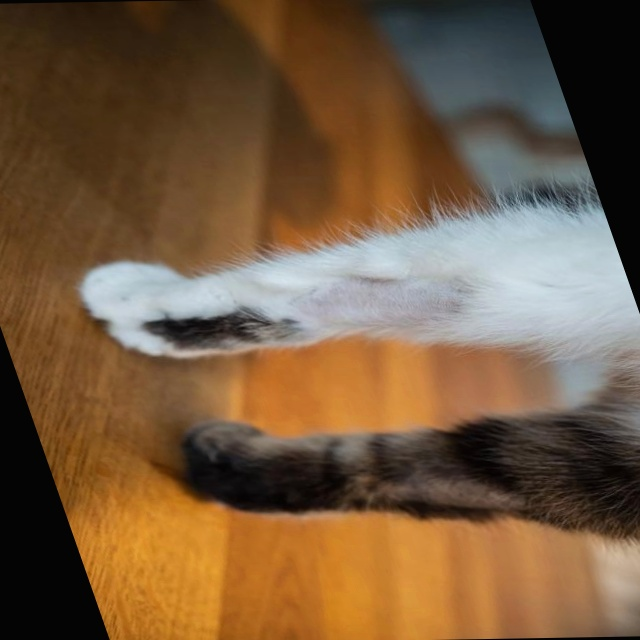hairloss: (265, 269, 498, 342)
